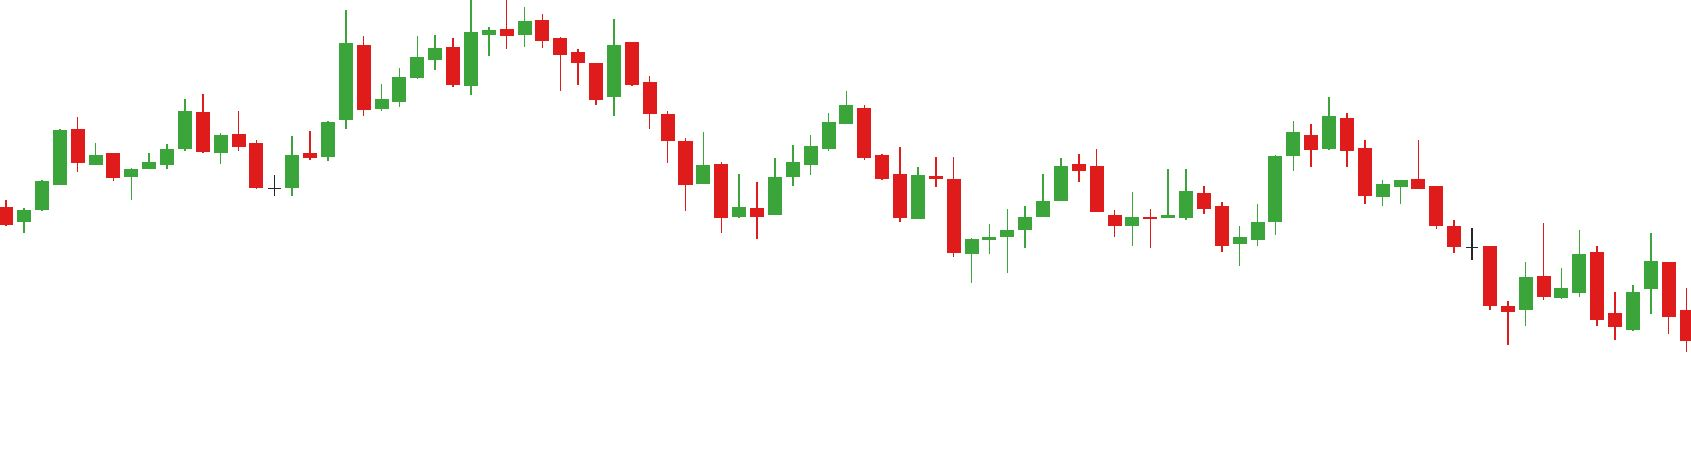buy: (747, 173, 1016, 290)
